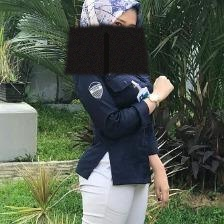Cadar_Niqab: (64, 0, 148, 74)
